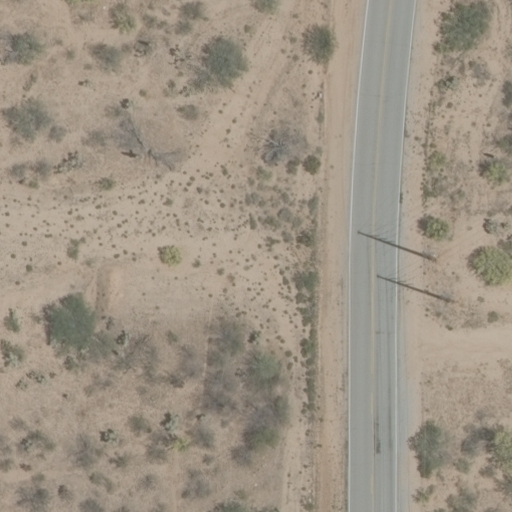DT: (430, 284, 458, 311), (419, 240, 440, 275)
